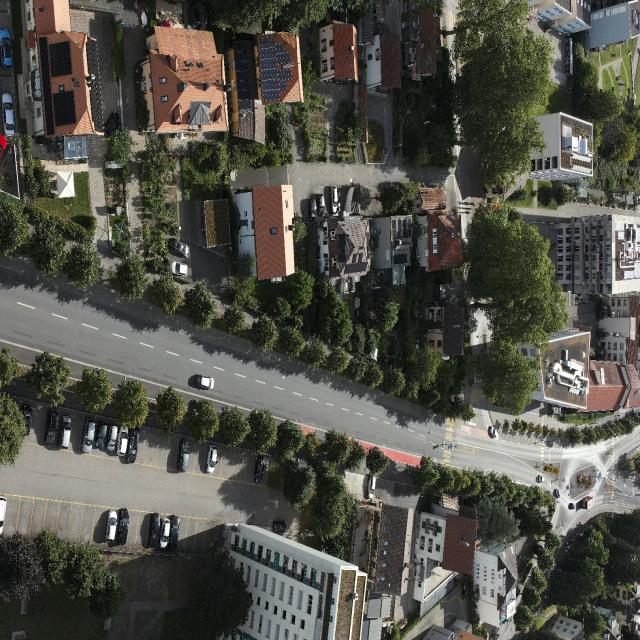panneaux_solaires: (258, 36, 280, 100), (234, 39, 252, 101), (52, 92, 76, 127), (49, 41, 72, 76), (344, 252, 368, 274), (572, 152, 593, 175), (392, 218, 412, 239), (278, 69, 293, 92), (276, 41, 291, 64), (624, 262, 640, 280), (615, 222, 624, 240), (394, 252, 407, 264), (637, 227, 640, 243)
passage_pieton: (444, 415, 454, 467), (610, 436, 616, 505), (538, 439, 544, 488), (445, 9, 457, 27)
